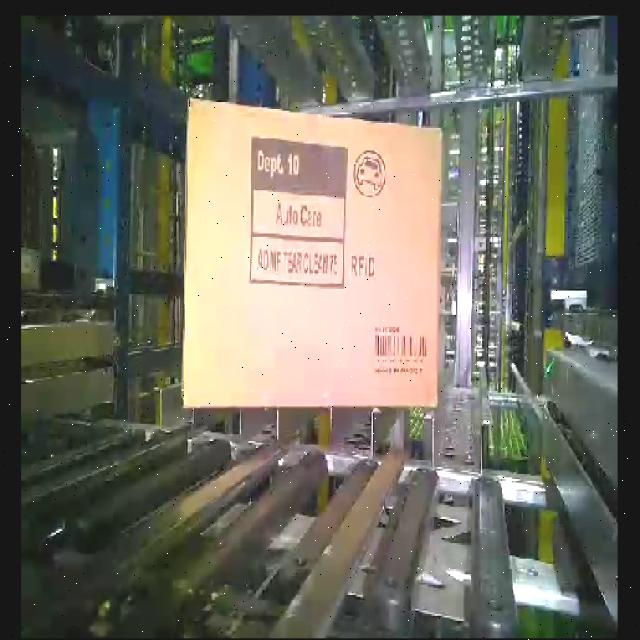box: (184, 101, 445, 417)
